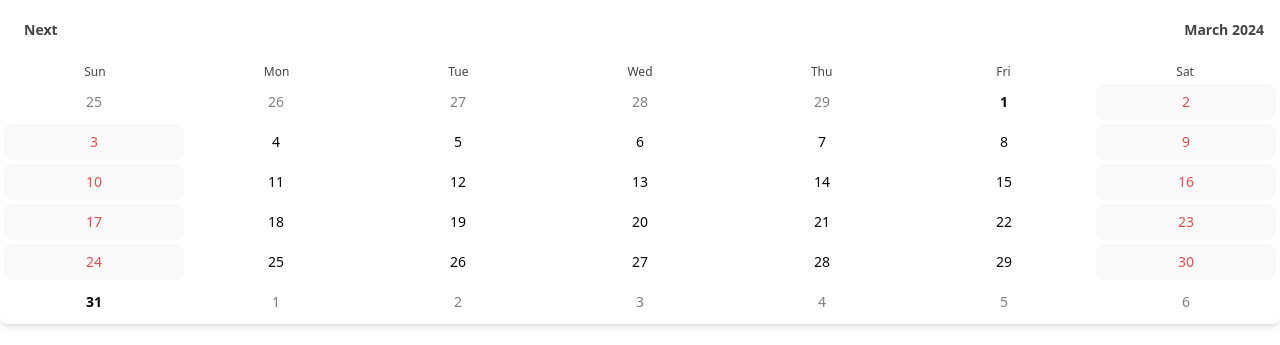
Header – navigation updates Calendar › clicking Next button advances the calendar month label
Expected: the text "March 2024" is shown, [1184, 20, 1264, 40]
Click the button "Next".
click(41, 30)  # box [16, 16, 66, 44]
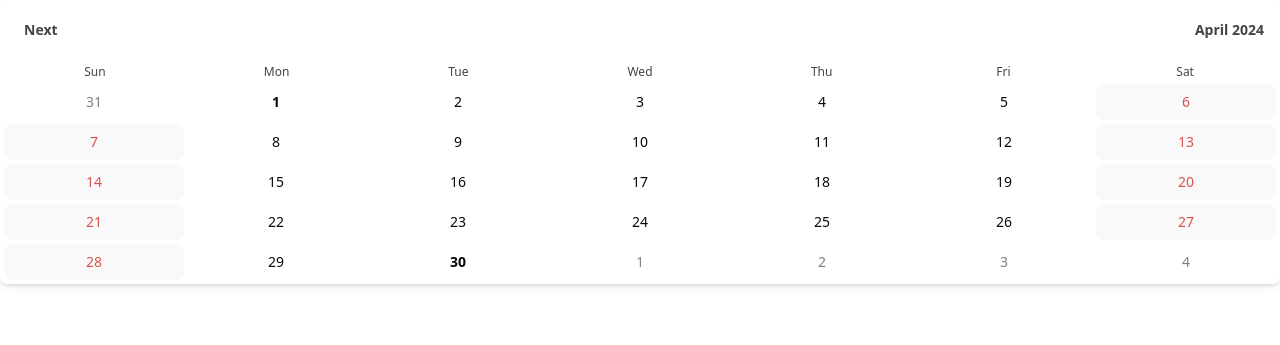
Result: the text "April 2024" is shown at [1195, 20, 1264, 40]
